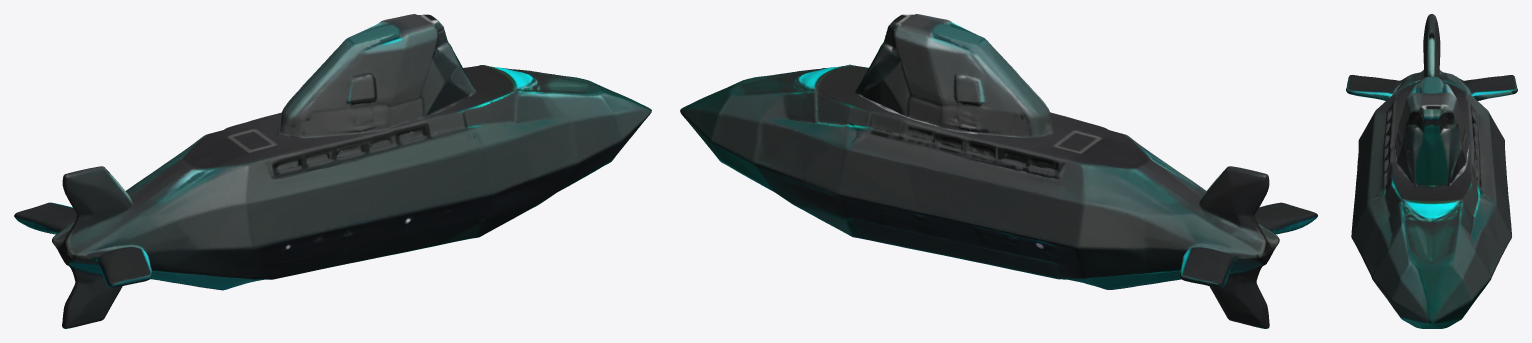
The model's file is sub-phantom.glb.
The picture shows the model from 3 angles, left to right: view 1: azimuth 30°, elevation 25°; view 2: azimuth 150°, elevation 25°; view 3: azimuth 270°, elevation 25°; orthographic projection. The views are drawn at different scales.
Visible parts, largest first — view 1: geometry_0; view 2: geometry_0; view 3: geometry_0.
Boxes of the visible parts, x1,y1,x2,y2 form: geometry_0: (14, 14, 651, 328); geometry_0: (680, 14, 1317, 328); geometry_0: (1346, 14, 1517, 328).
Bounding box in the file's own units: 150 × 54 × 44.68.
Materials: 1 (1 with a texture image).
